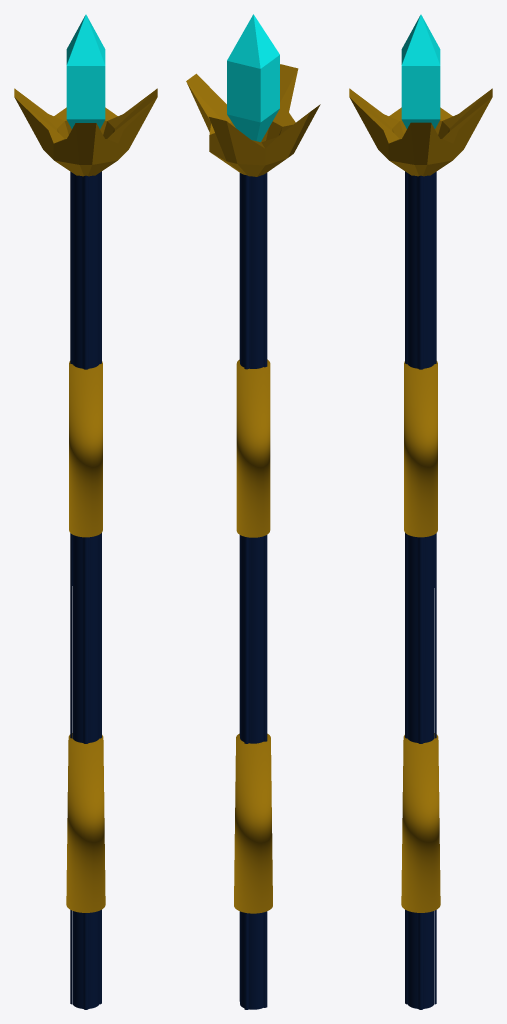
File: IceStaff.obj
3 views of the same model, side by side, from view 1: azimuth 90°, elevation 25°; view 2: azimuth 150°, elevation 25°; view 3: azimuth 270°, elevation 25° (orthographic).
Visible parts, largest first — view 1: Trim1, Handle1, Gem1; view 2: Trim1, Handle1, Gem1; view 3: Trim1, Handle1, Gem1.
Part boxes in pixels (left/top/right/bottom): Trim1: left=14, top=88, right=157, bottom=912; Handle1: left=70, top=171, right=101, bottom=1009; Gem1: left=66, top=14, right=105, bottom=128; Trim1: left=186, top=64, right=320, bottom=913; Handle1: left=239, top=173, right=267, bottom=1009; Gem1: left=227, top=14, right=279, bottom=141; Trim1: left=349, top=88, right=492, bottom=912; Handle1: left=405, top=171, right=436, bottom=1009; Gem1: left=401, top=14, right=440, bottom=128.
Size of the model in its own units: 0.9649 by 7.34 by 0.9648.
